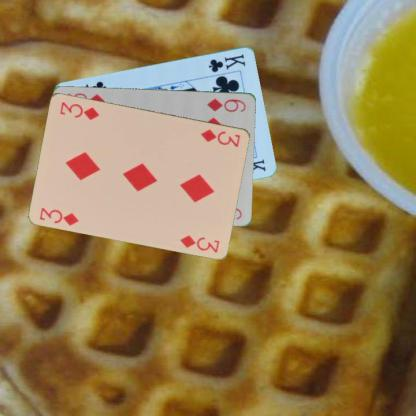3d: (198, 126, 242, 148), (37, 205, 80, 227)
6d: (204, 96, 247, 113)
Kc: (206, 51, 247, 73)
